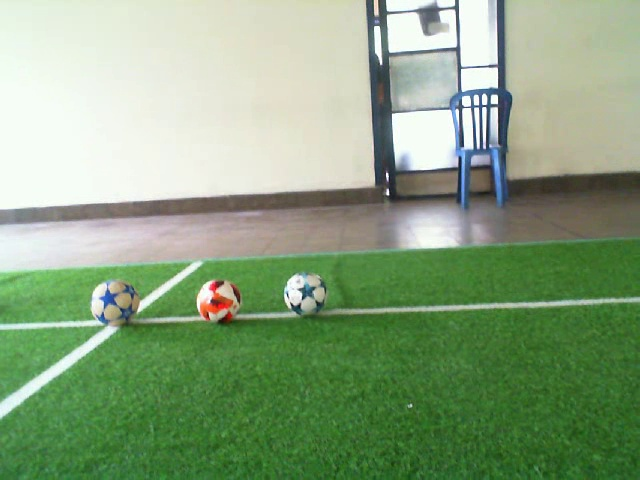ball: (89, 278, 141, 328), (194, 277, 242, 325), (282, 270, 329, 318)
